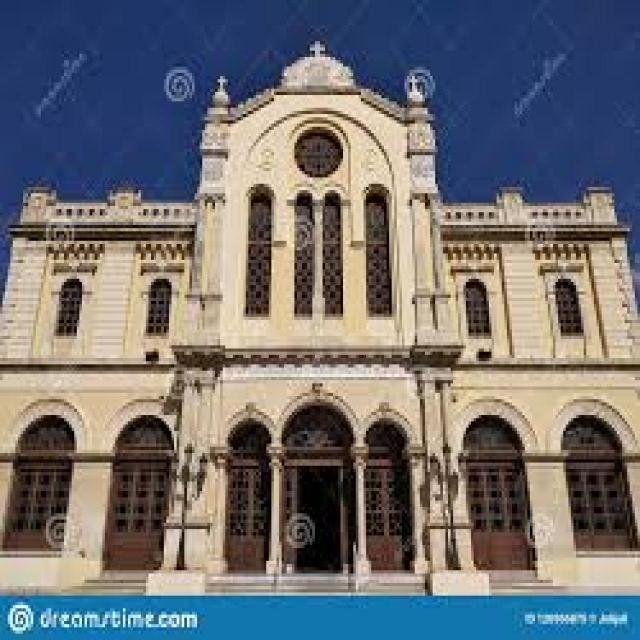Agios Minas: (1, 38, 640, 598)
